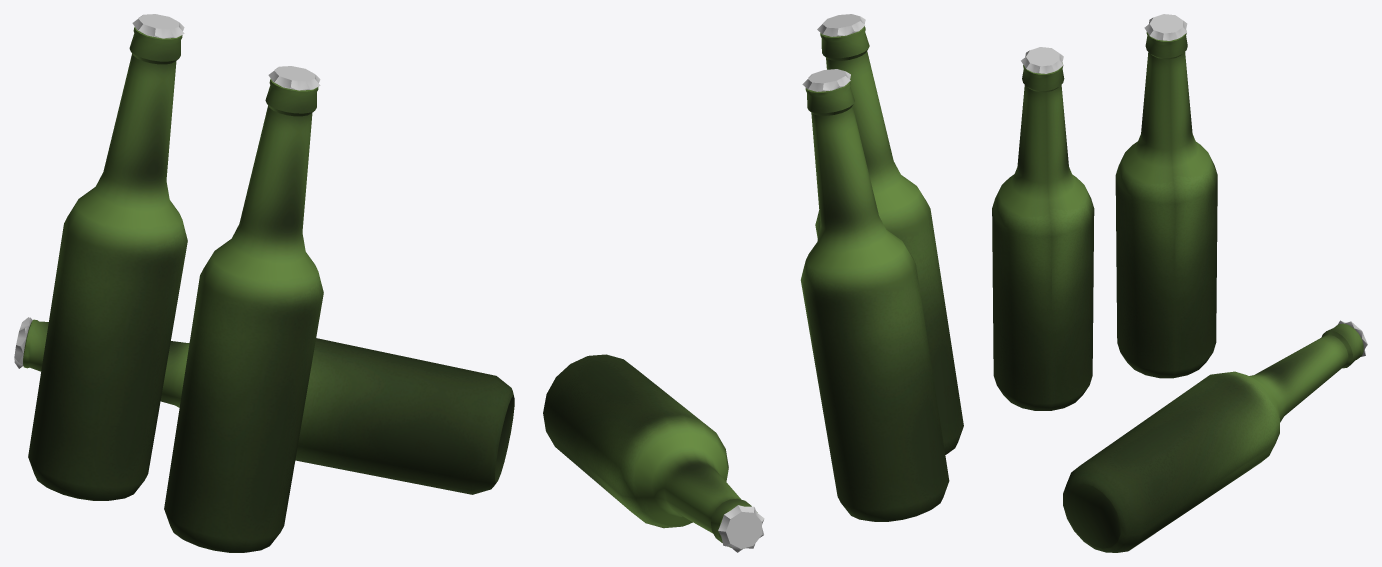
File: soju2.obj
The picture shows the model from 3 angles, left to right: view 1: azimuth 30°, elevation 25°; view 2: azimuth 150°, elevation 25°; view 3: azimuth 270°, elevation 25°; orthographic projection. The views are drawn at different scales.
Bounding box in the file's own units: 7.29 × 7.95 × 6.48.
